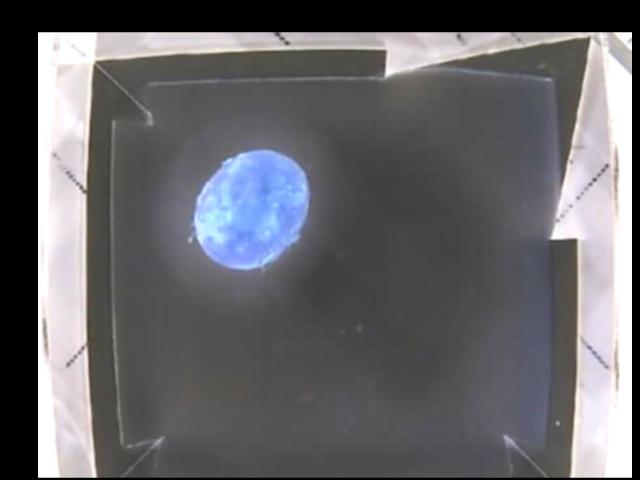Potato: (194, 151, 308, 268)
